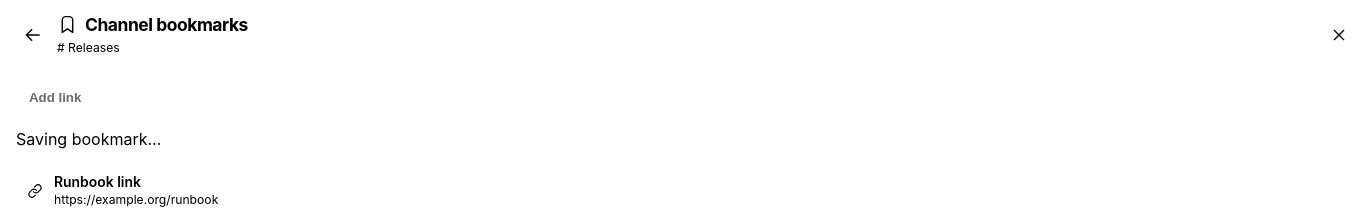
Test: blocks another write until a reopened channel list reconciles an confirmed result
Earlier steps of the test are not shown.
Later steps or results of the test are not shown.
Check: the text "Saving bookmark…" is shown, box [16,129,161,149]
Step 1. Click the button "Add link" → [55, 98], box [16,82,94,113]
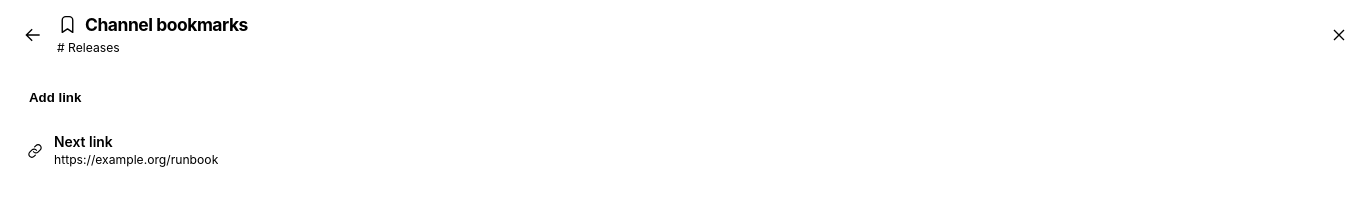
Check: the button "Next link https://example.org/runbook" is shown, box [16,125,1350,176]
Check: the button "Add link" is enabled, box [16,82,94,113]
